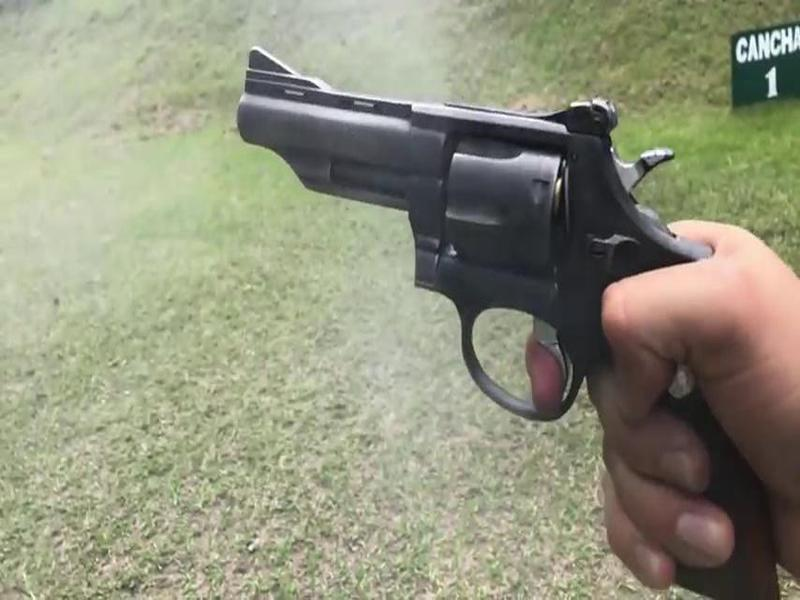Revolver: (232, 27, 721, 575)
